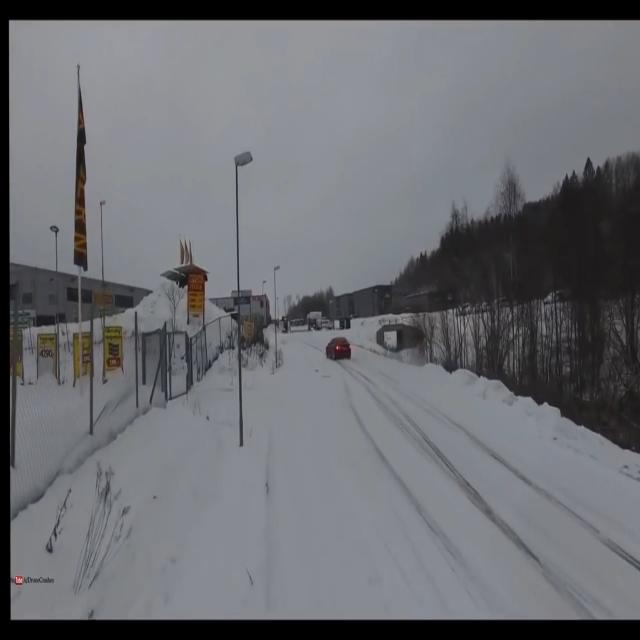Pole: (231, 148, 255, 450), (270, 262, 285, 370)
Vehicle: (326, 334, 350, 362)
